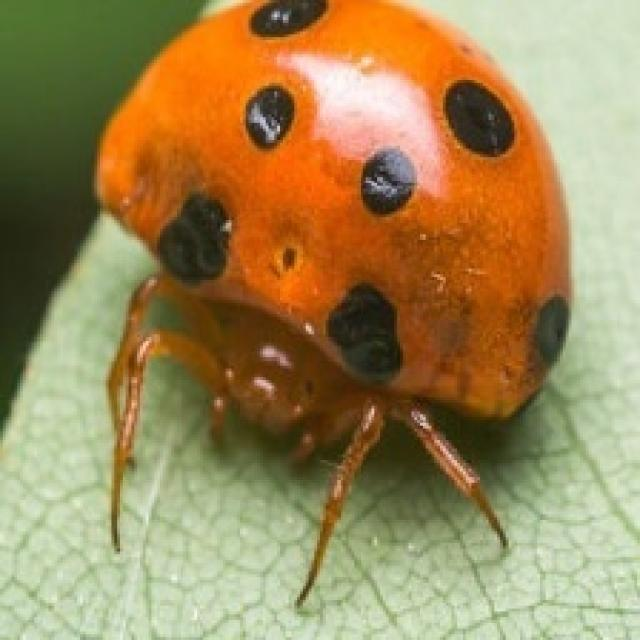Non venomous spider: (59, 0, 588, 588)
